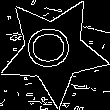O_E: (26, 27, 81, 75)
